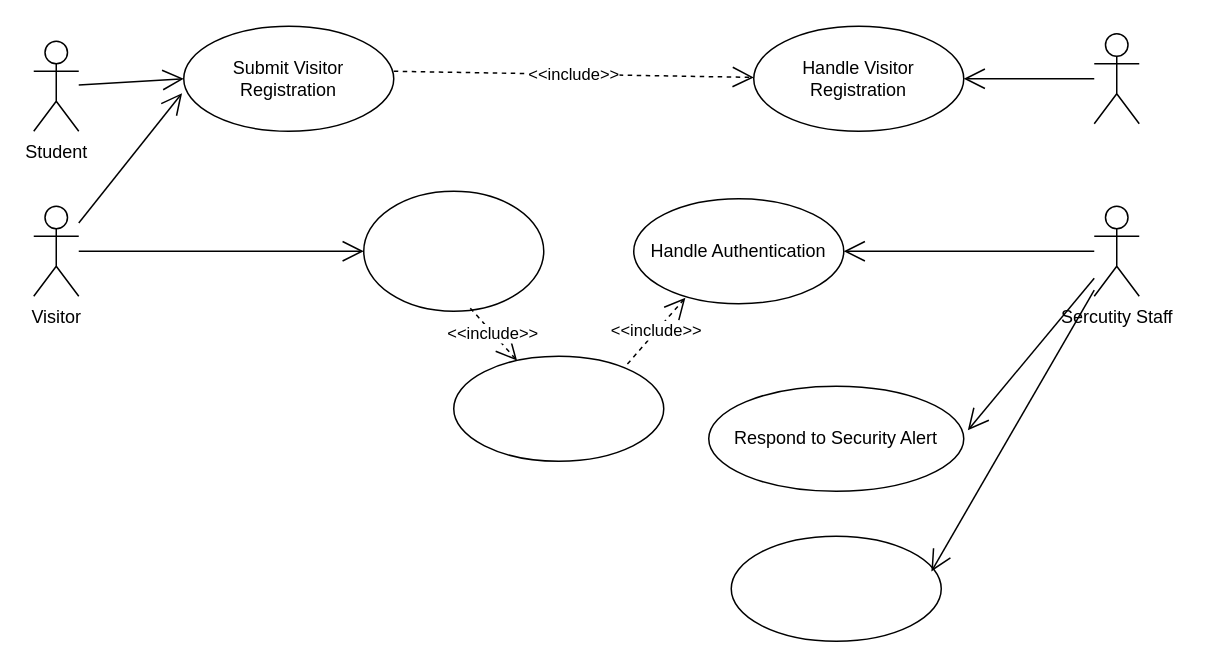
This 1220x668 diagram has some shape labels left out. The centre of each missing label's shape, as x and y in pixels:
Dorm Administrator: (1116,78)
Manage Security Reports: (835,588)
Request Authentication: (558,408)
Use Access Control: (453,250)
